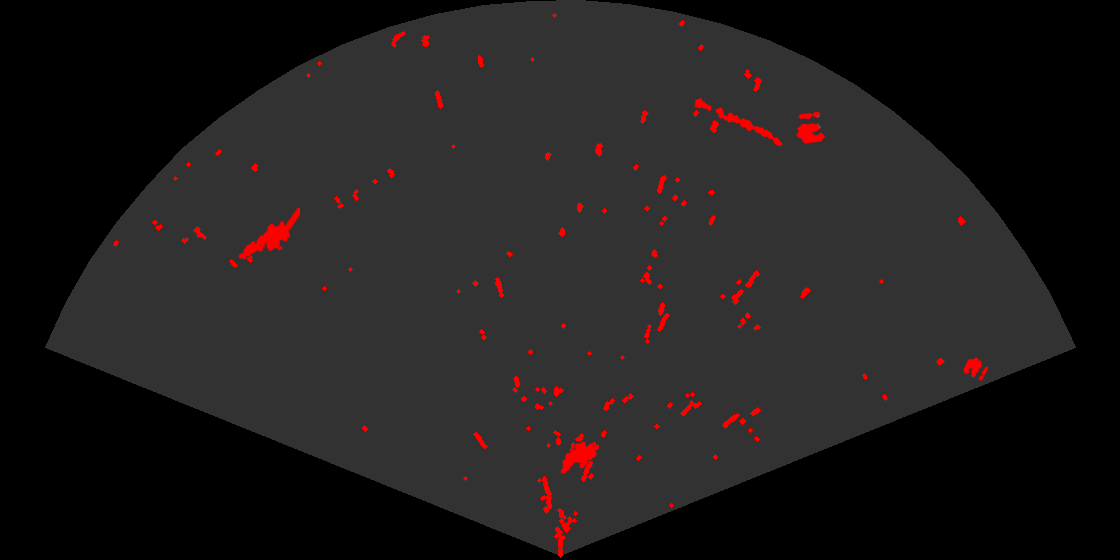AUV: (559, 440, 601, 475)
ball: (795, 110, 827, 145), (962, 356, 990, 383)
chain: (693, 96, 784, 148)
frogman: (237, 208, 300, 261)
